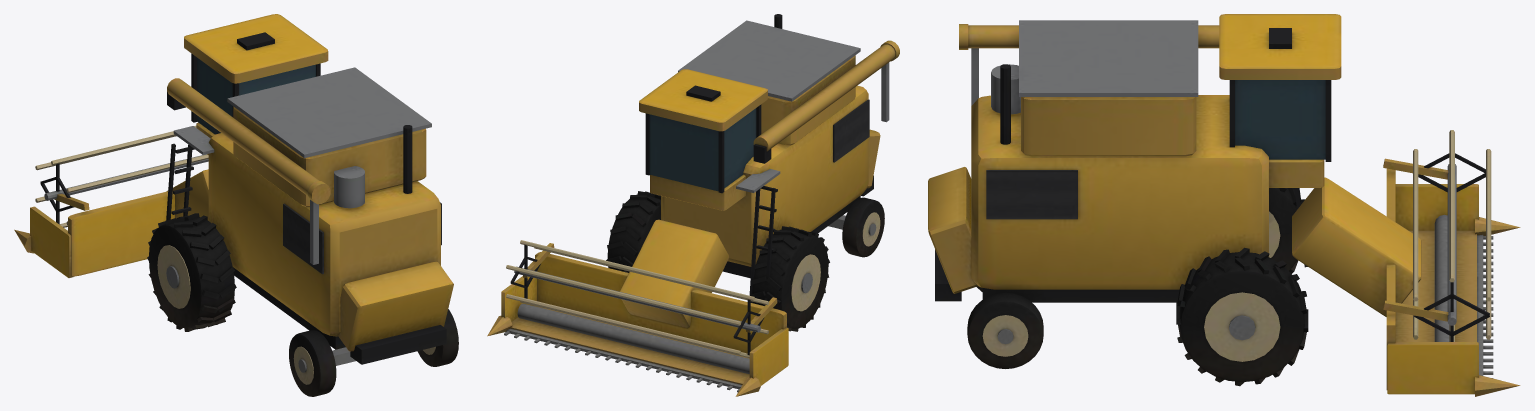
File: combine.glb
The picture shows the model from 3 angles, left to right: view 1: azimuth 30°, elevation 25°; view 2: azimuth 150°, elevation 25°; view 3: azimuth 270°, elevation 25°; orthographic projection. The views are drawn at different scales.
Parts seen in each view (by area): view 1: combine; view 2: combine; view 3: combine.
Part boxes in pixels (x1=…): combine: x1=14, y1=14, x2=458, y2=396; combine: x1=487, y1=14, x2=899, y2=396; combine: x1=928, y1=14, x2=1520, y2=396.
Size of the model in its own units: 5.22 by 4.26 by 7.76.
Materials: 1 (1 with a texture image).
